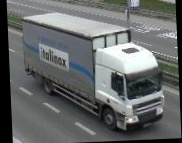truck: (19, 7, 168, 137)
